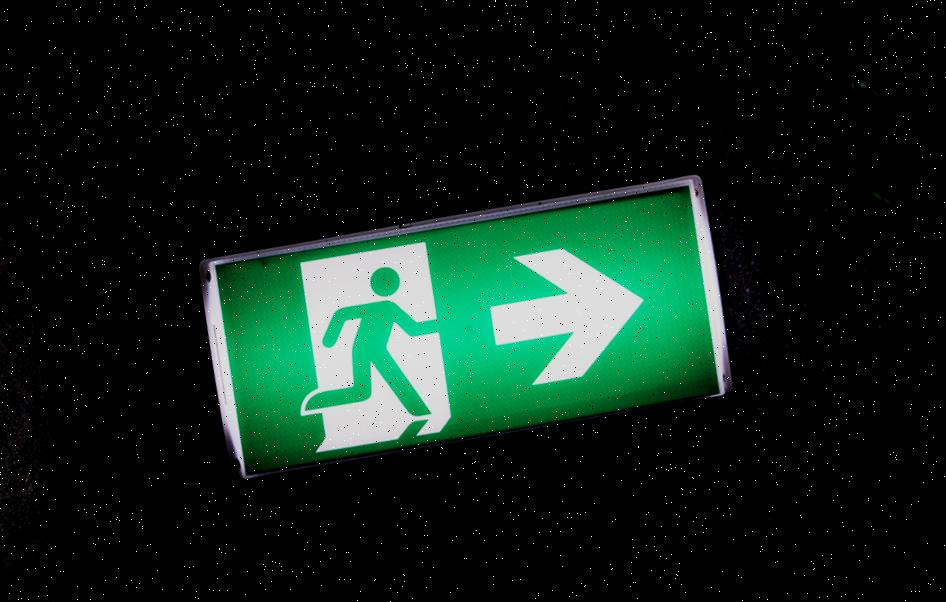emergency_exit: (199, 174, 734, 480)
